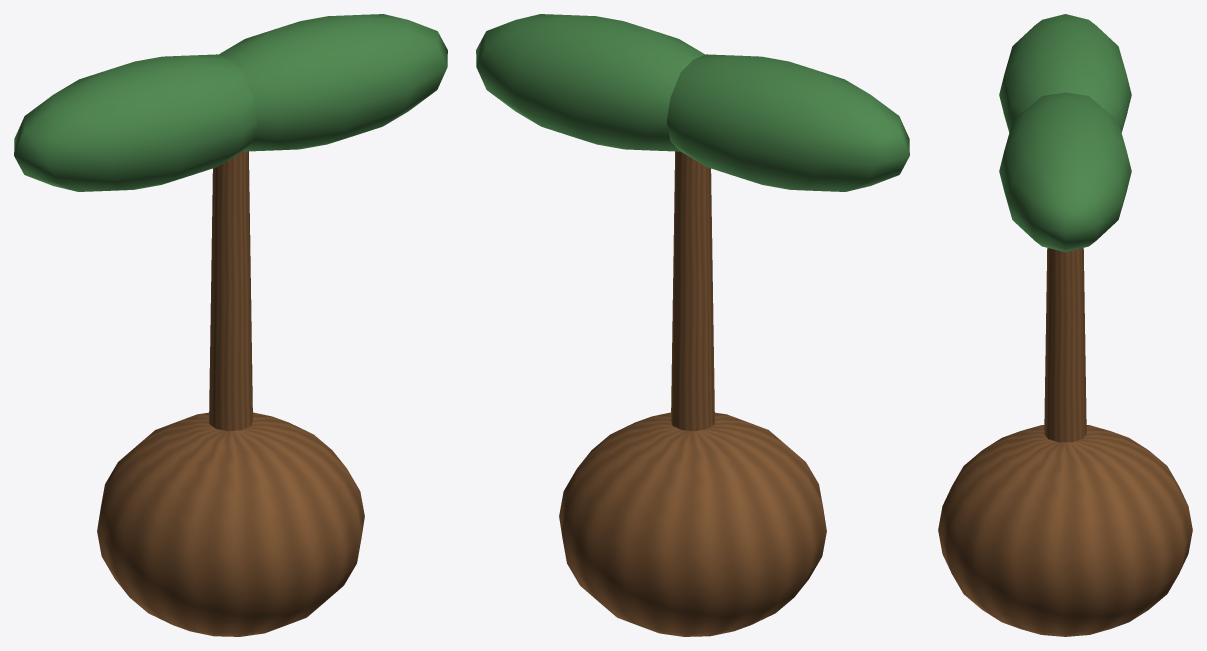
The model's file is prop-seedling.gltf.
3 renders of one model, left to right at view 1: azimuth 30°, elevation 25°; view 2: azimuth 150°, elevation 25°; view 3: azimuth 270°, elevation 25°, orthographic. The views are drawn at different scales.
Visible parts, largest first — view 1: seedling; view 2: seedling; view 3: seedling.
Boxes of the visible parts, x1,y1,x2,y2 form: seedling: (14,14,447,636); seedling: (476,14,909,636); seedling: (938,14,1192,636).
Bounding box in the file's own units: 0.178 × 0.2254 × 0.096.
2 materials, 1 textured.
